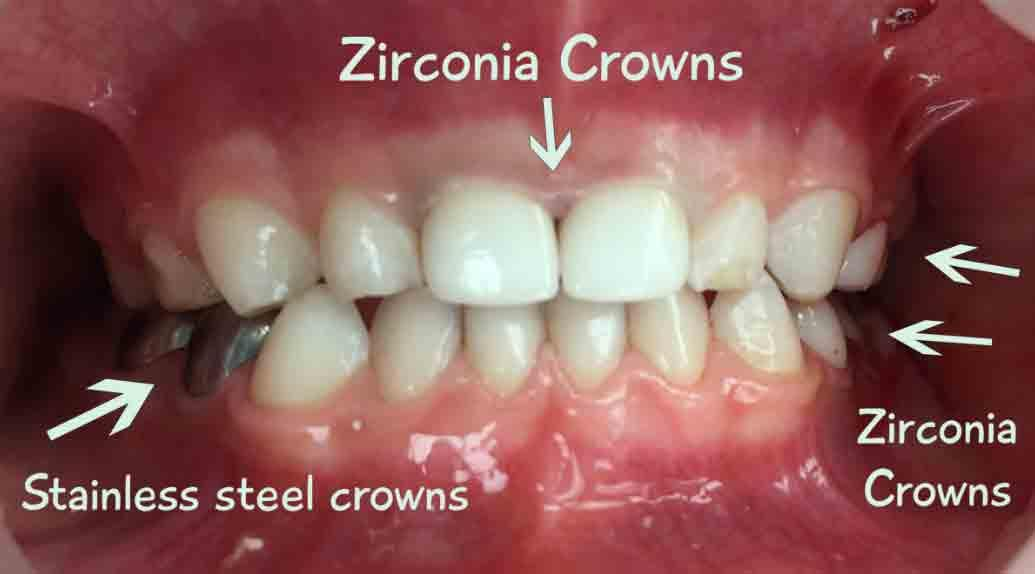crown: (170, 293, 280, 393), (101, 301, 193, 370)
